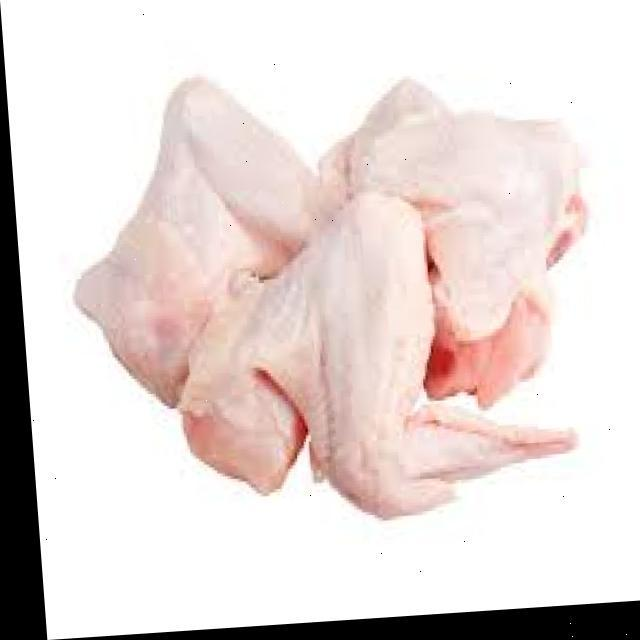wing: (180, 196, 556, 520), (49, 83, 327, 364), (329, 76, 574, 348)
